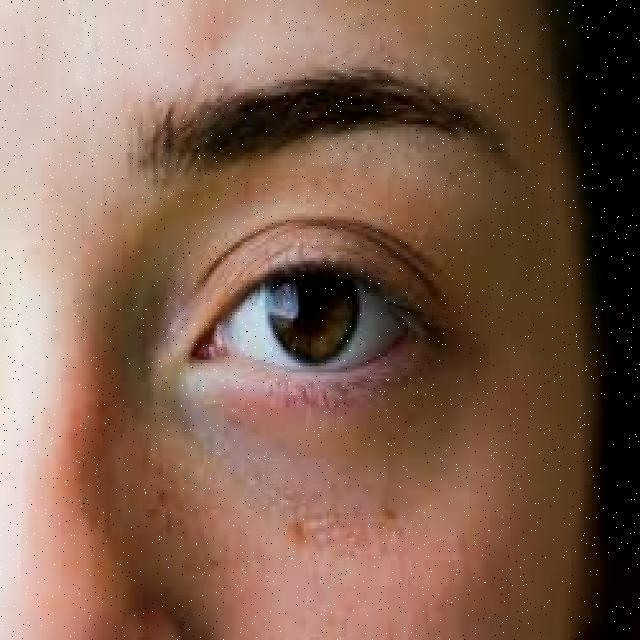Normal: (130, 167, 498, 476)
